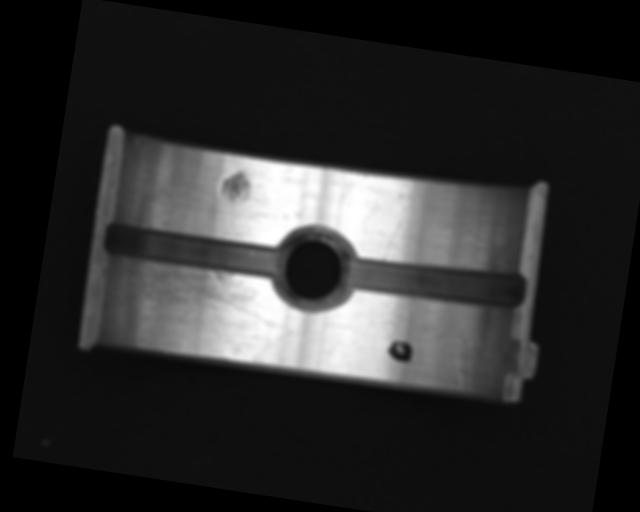blot: (385, 338, 414, 364)
bruise: (218, 169, 253, 206)
gap: (339, 246, 529, 315), (102, 218, 285, 281)
hole: (267, 220, 358, 315)
nick: (383, 204, 407, 263)
scratch: (102, 253, 284, 342)
